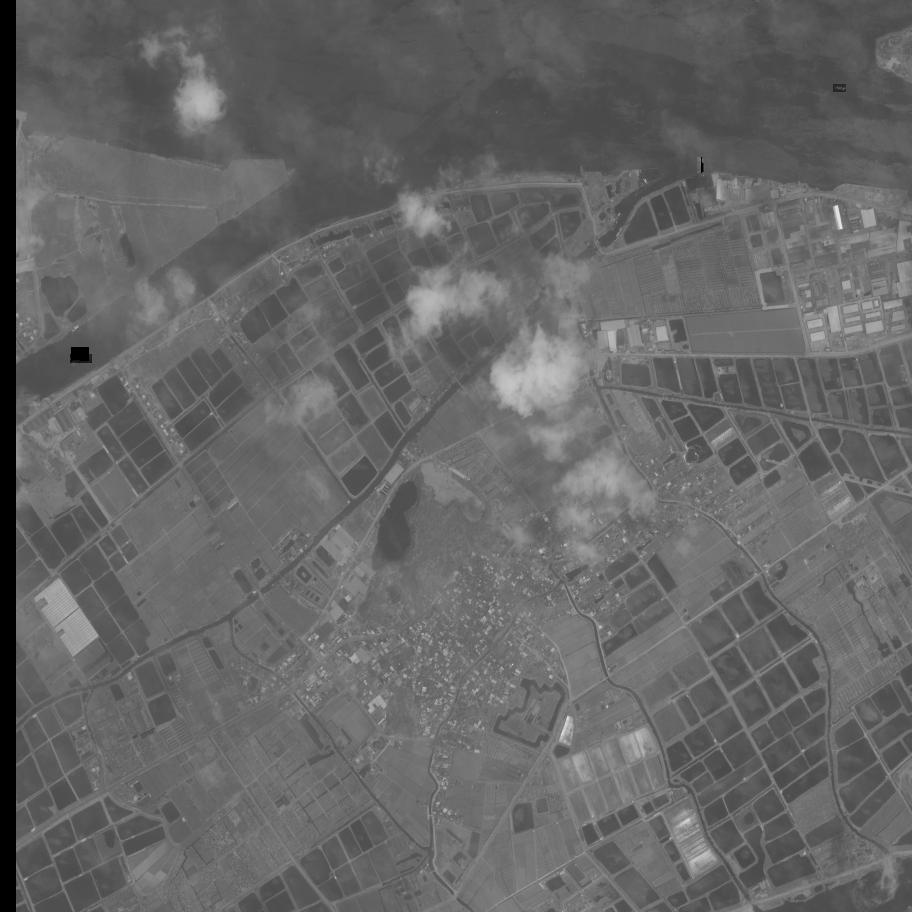ship: (71, 347, 90, 361), (69, 354, 93, 364), (22, 394, 40, 406), (833, 84, 847, 92), (697, 157, 701, 173), (643, 178, 649, 185), (702, 164, 703, 172)
